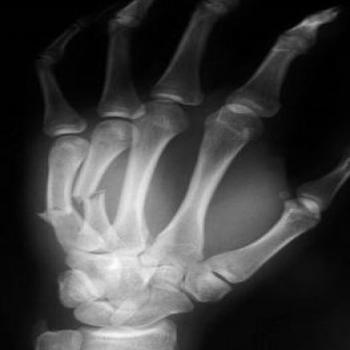Fracture: (25, 198, 80, 229), (77, 184, 111, 207)
